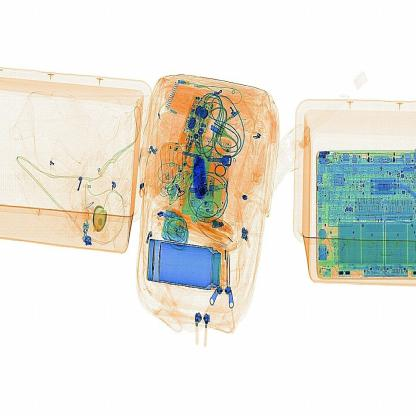scissors: (187, 146, 224, 210)
